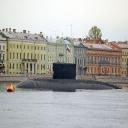submarine: (15, 63, 123, 90)
